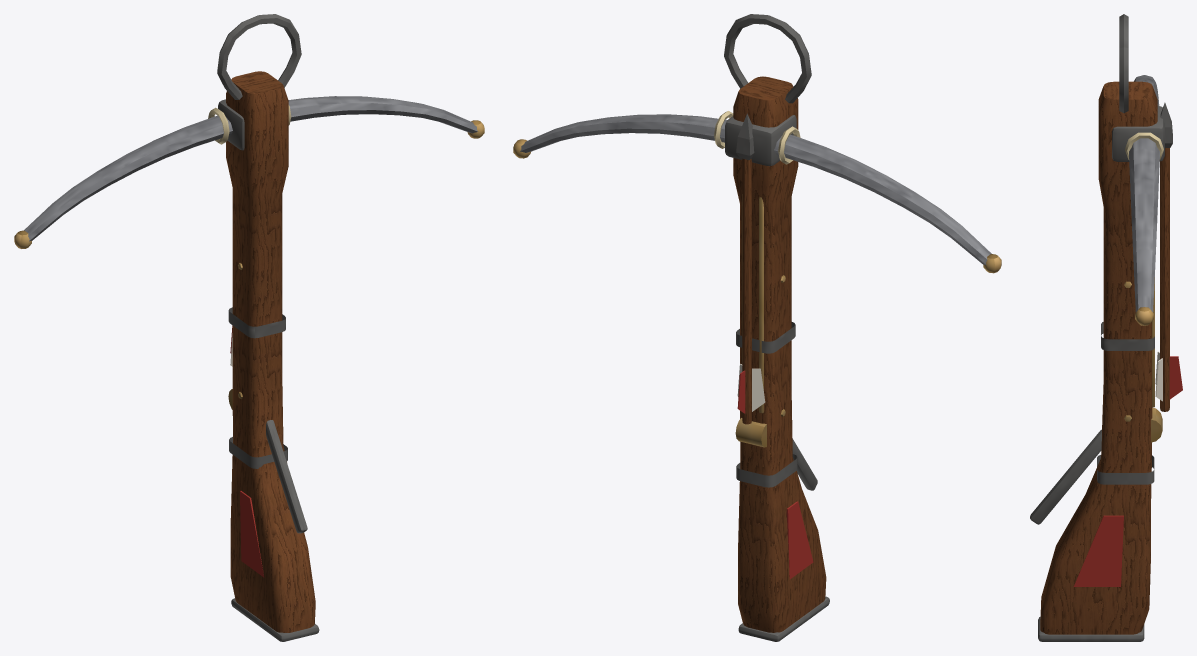
The model's file is crossbow.glb.
3 renders of one model, left to right at view 1: azimuth 30°, elevation 25°; view 2: azimuth 150°, elevation 25°; view 3: azimuth 270°, elevation 25°, orthographic. The views are drawn at different scales.
Visible parts, largest first — view 1: crossbow; view 2: crossbow, bolt; view 3: crossbow, bolt.
Boxes of the visible parts, <box> form: crossbow: <box>14,14,484,641</box>; crossbow: <box>513,14,1001,641</box>; bolt: <box>736,113,765,424</box>; crossbow: <box>1030,14,1164,641</box>; bolt: <box>1155,102,1182,411</box>.
Bounding box in the file's own units: 0.6828 × 0.8275 × 0.1868.
7 materials, 4 textured.
